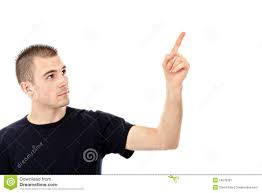hand: (155, 30, 200, 78)
